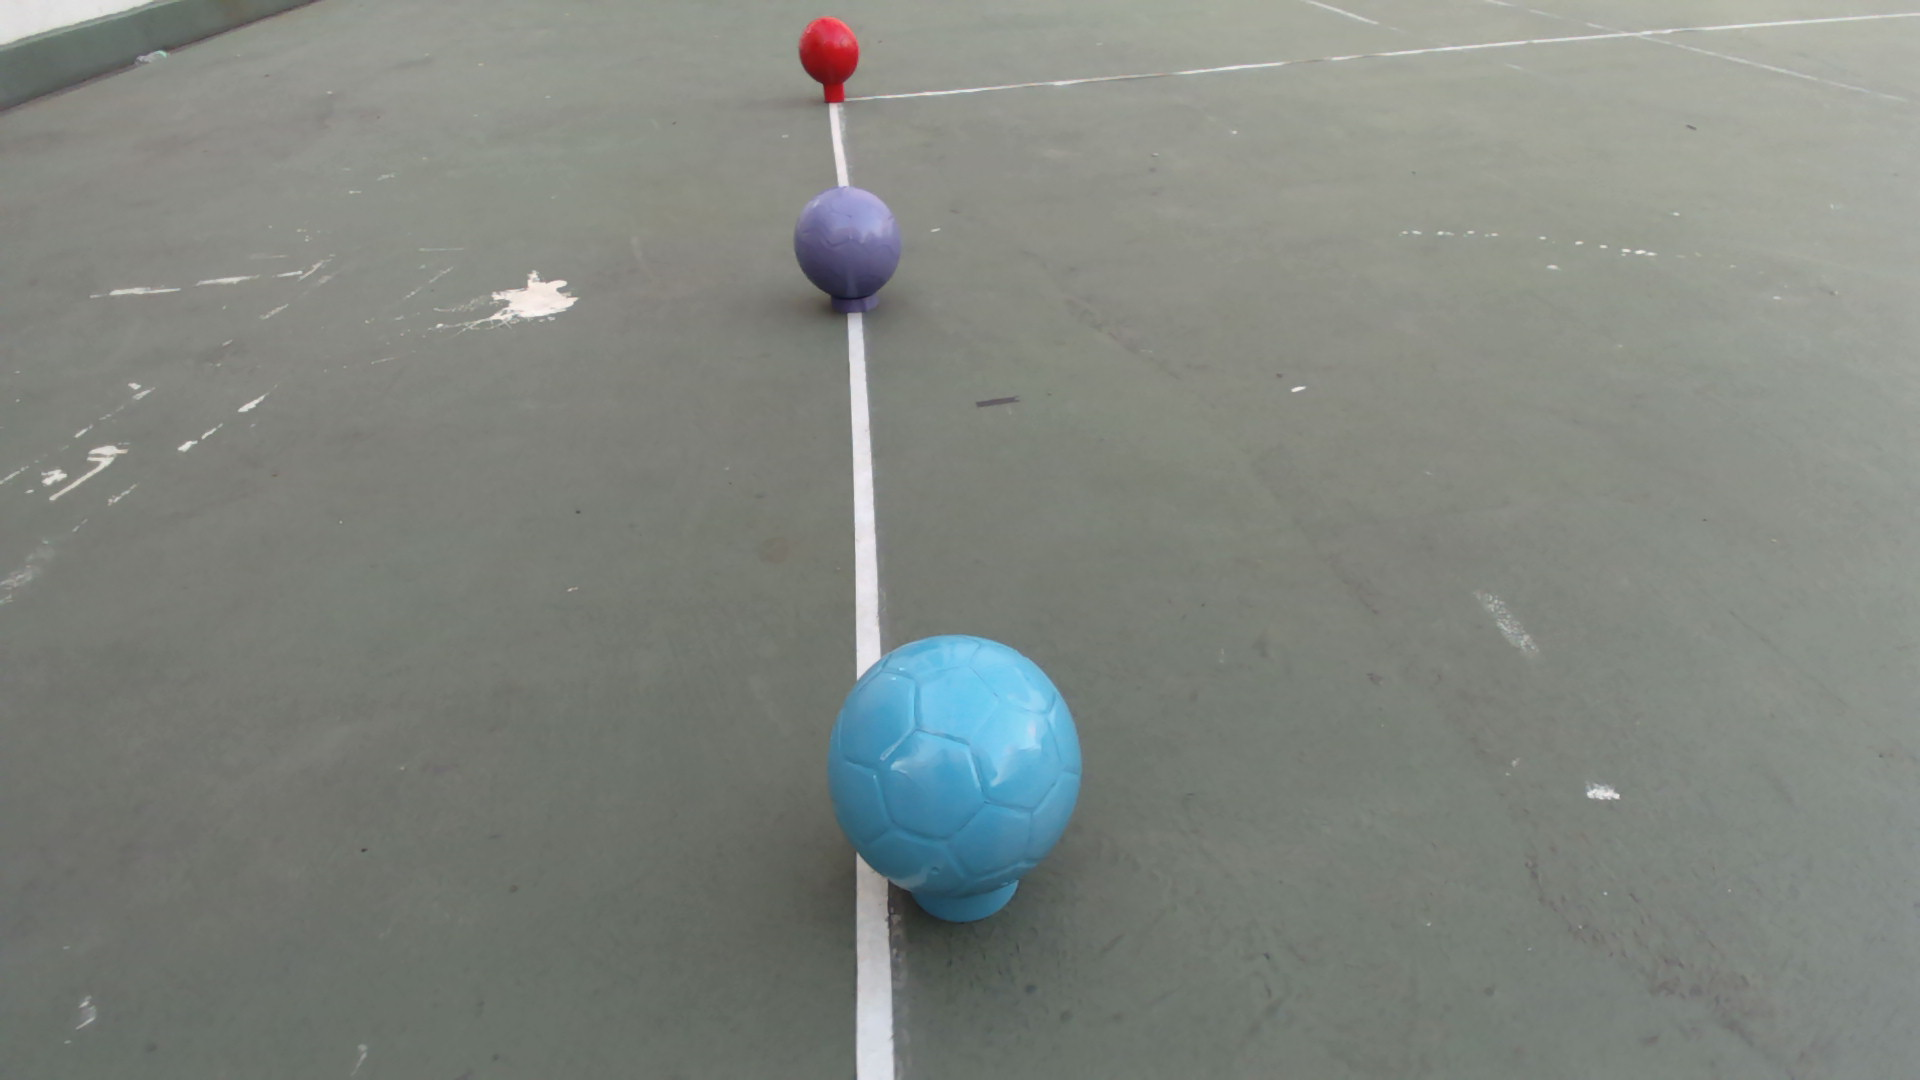Blue ball: (824, 632, 1085, 901)
Purple ball: (791, 185, 902, 299)
Red ball: (796, 16, 858, 86)
